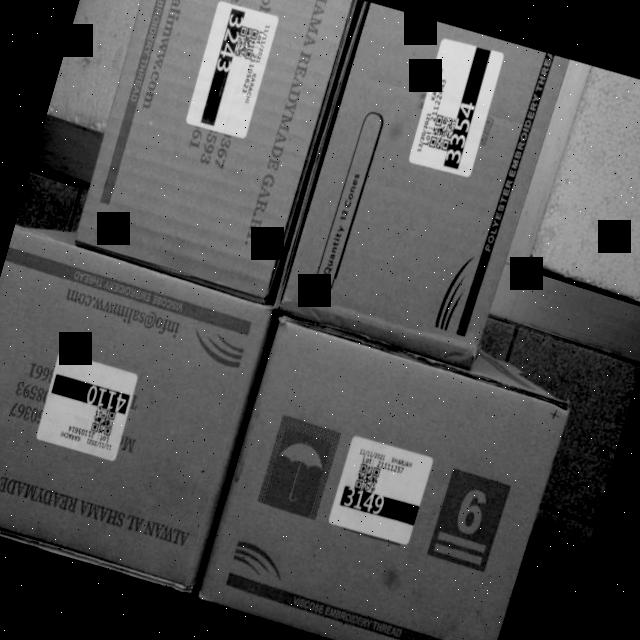box: (201, 321, 567, 640), (280, 1, 558, 368), (0, 233, 273, 601), (71, 0, 357, 302)
